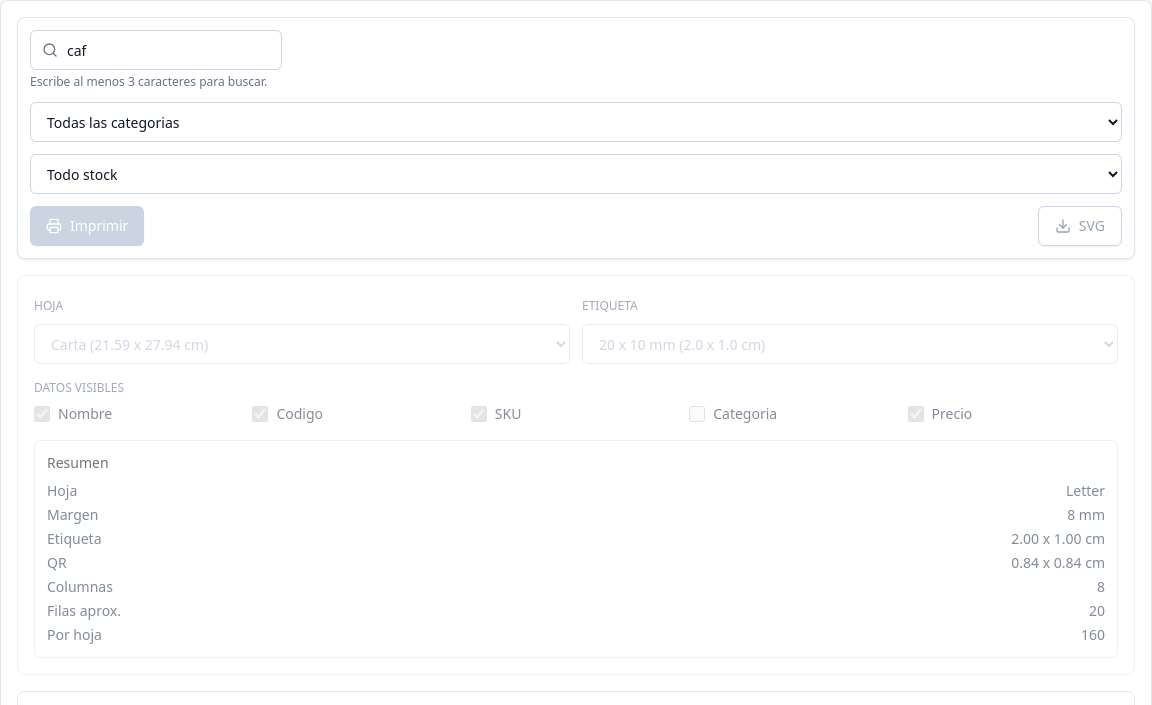
it: ProductLabelPage › updates label summary from page settings
Expected: the text "2.00 x 1.00 cm" is shown, top-left (1011, 529), bottom-right (1105, 548)
Expected: the text "0.84 x 0.84 cm" is shown, top-left (1011, 553), bottom-right (1105, 572)
Select "60 x 40 mm (6.0 x 4.0 cm)" in the dropdown named "Tamano de etiqueta": (850, 344) top-left (582, 324), bottom-right (1118, 364)
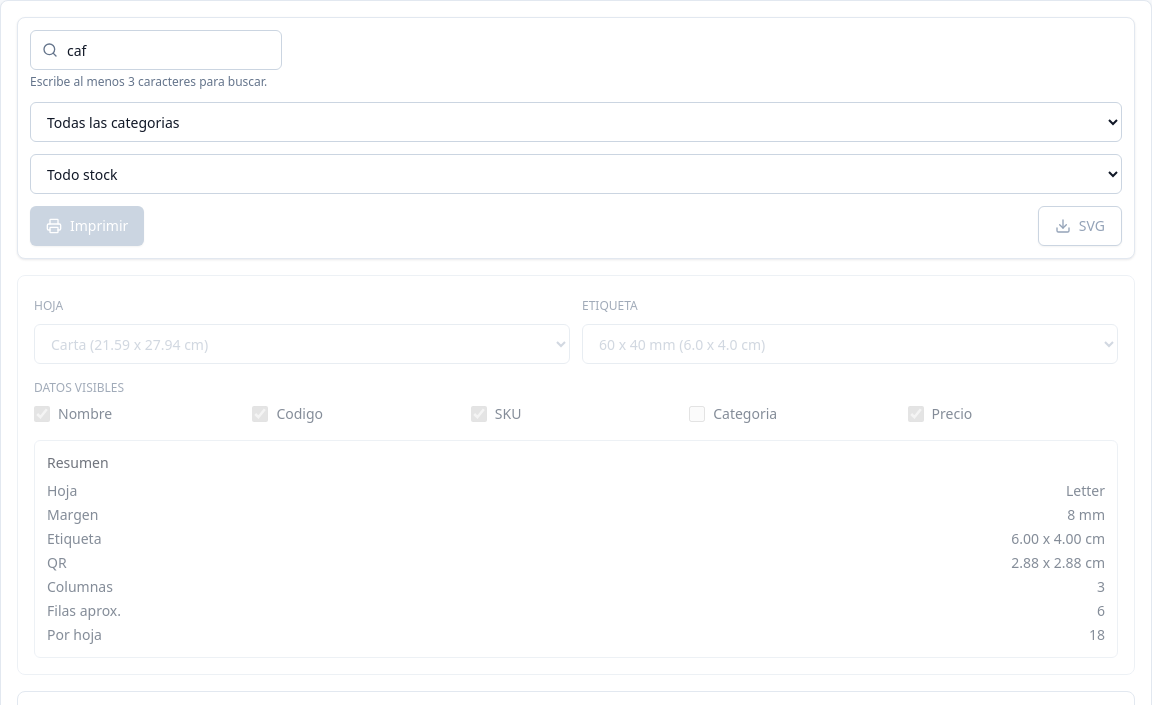
Now the text "6.00 x 4.00 cm" is shown, box top-left (1011, 529), bottom-right (1105, 548)
Now the text "2.88 x 2.88 cm" is shown, box top-left (1011, 553), bottom-right (1105, 572)
